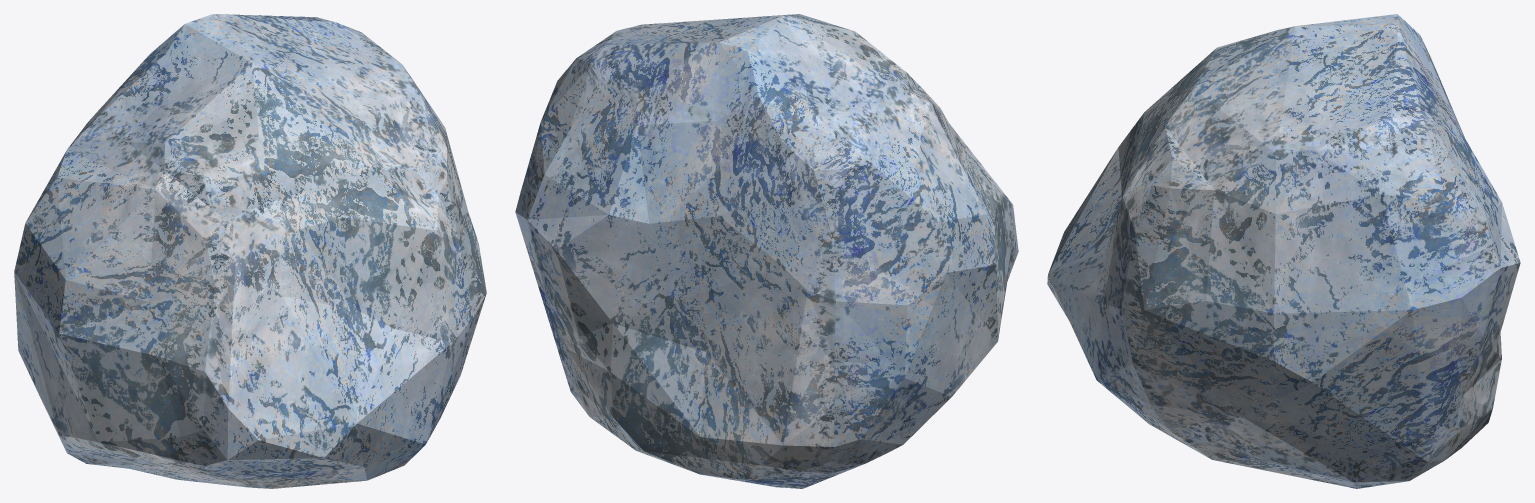
File: asteroid_ice_medium_s01_l1.fbx
3 renders of one model, left to right at view 1: azimuth 30°, elevation 25°; view 2: azimuth 150°, elevation 25°; view 3: azimuth 270°, elevation 25°, orthographic.
Parts seen in each view (by area): view 1: mesh_node; view 2: mesh_node; view 3: mesh_node.
Part boxes in pixels (x1=…): mesh_node: x1=14, y1=14, x2=486, y2=488; mesh_node: x1=515, y1=14, x2=1018, y2=488; mesh_node: x1=1047, y1=14, x2=1520, y2=488.
Size of the model in its own units: 67.64 by 68.44 by 68.32.
Materials: 1 (1 with a texture image).
